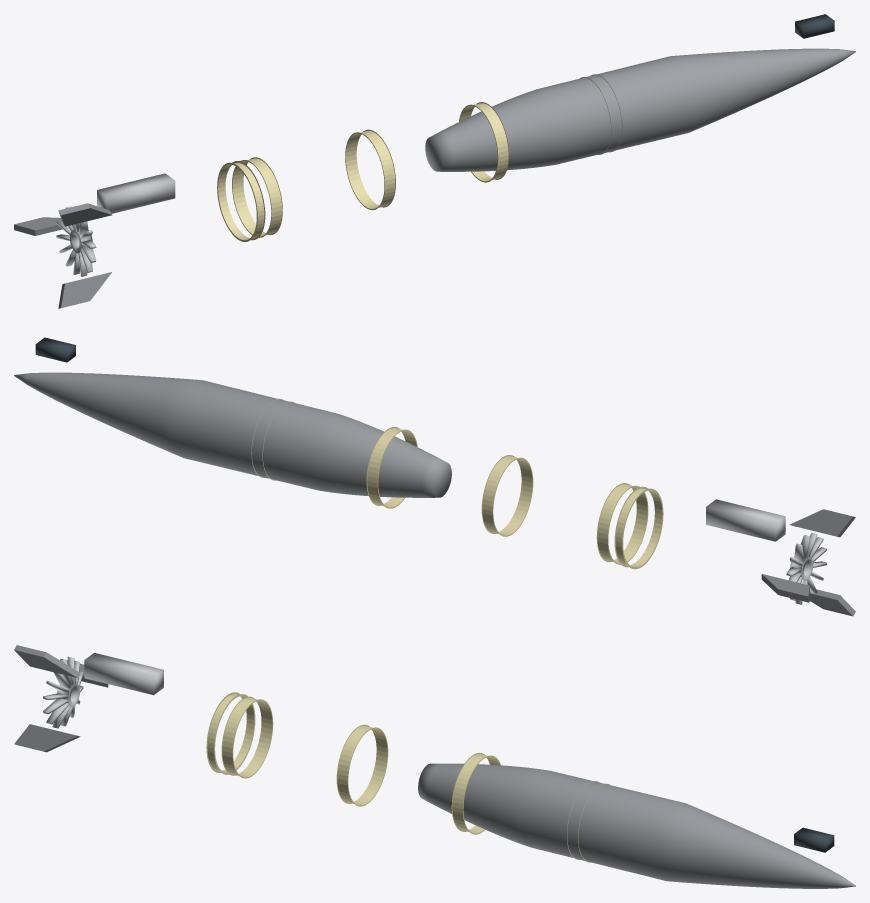
The model's file is RU_TORP_UGST_M_LOD0.fbx.
3 renders of one model, top to bottom at view 1: azimuth 30°, elevation 25°; view 2: azimuth 150°, elevation 25°; view 3: azimuth 330°, elevation 25°, orthographic.
Parts seen in each view (by area): view 1: WPN_RU_TORP_UGST_M_LOD0_Body, WPN_RU_TORP_UGST_M_LOD0_Marking, WPN_RU_TORP_UGST_M_LOD0_Fins, WPN_RU_TORP_UGST_M_LOD0_Detail, WPN_RU_TORP_UGST_M_LOD0_Propulsor, WPN_RU_TORP_UGST_M_LOD0_Seeker; view 2: WPN_RU_TORP_UGST_M_LOD0_Body, WPN_RU_TORP_UGST_M_LOD0_Marking, WPN_RU_TORP_UGST_M_LOD0_Fins, WPN_RU_TORP_UGST_M_LOD0_Detail, WPN_RU_TORP_UGST_M_LOD0_Propulsor, WPN_RU_TORP_UGST_M_LOD0_Seeker; view 3: WPN_RU_TORP_UGST_M_LOD0_Body, WPN_RU_TORP_UGST_M_LOD0_Marking, WPN_RU_TORP_UGST_M_LOD0_Detail, WPN_RU_TORP_UGST_M_LOD0_Fins, WPN_RU_TORP_UGST_M_LOD0_Propulsor, WPN_RU_TORP_UGST_M_LOD0_Seeker.
Boxes of the visible parts, left/top/right/bottom form: WPN_RU_TORP_UGST_M_LOD0_Body: left=425, top=48, right=855, bottom=171; WPN_RU_TORP_UGST_M_LOD0_Marking: left=217, top=74, right=622, bottom=241; WPN_RU_TORP_UGST_M_LOD0_Fins: left=14, top=203, right=112, bottom=308; WPN_RU_TORP_UGST_M_LOD0_Detail: left=97, top=173, right=175, bottom=213; WPN_RU_TORP_UGST_M_LOD0_Propulsor: left=56, top=206, right=96, bottom=276; WPN_RU_TORP_UGST_M_LOD0_Seeker: left=795, top=14, right=834, bottom=38; WPN_RU_TORP_UGST_M_LOD0_Body: left=14, top=372, right=451, bottom=497; WPN_RU_TORP_UGST_M_LOD0_Marking: left=251, top=398, right=663, bottom=569; WPN_RU_TORP_UGST_M_LOD0_Fins: left=761, top=509, right=855, bottom=616; WPN_RU_TORP_UGST_M_LOD0_Detail: left=706, top=499, right=785, bottom=541; WPN_RU_TORP_UGST_M_LOD0_Propulsor: left=786, top=533, right=826, bottom=604; WPN_RU_TORP_UGST_M_LOD0_Seeker: left=35, top=337, right=75, bottom=362; WPN_RU_TORP_UGST_M_LOD0_Body: left=418, top=763, right=855, bottom=888; WPN_RU_TORP_UGST_M_LOD0_Marking: left=206, top=692, right=609, bottom=862; WPN_RU_TORP_UGST_M_LOD0_Detail: left=84, top=653, right=163, bottom=695; WPN_RU_TORP_UGST_M_LOD0_Fins: left=14, top=645, right=108, bottom=752; WPN_RU_TORP_UGST_M_LOD0_Propulsor: left=43, top=656, right=83, bottom=728; WPN_RU_TORP_UGST_M_LOD0_Seeker: left=794, top=827, right=834, bottom=852.
Size of the model in its own units: 6.32 by 0.6853 by 0.7328.
